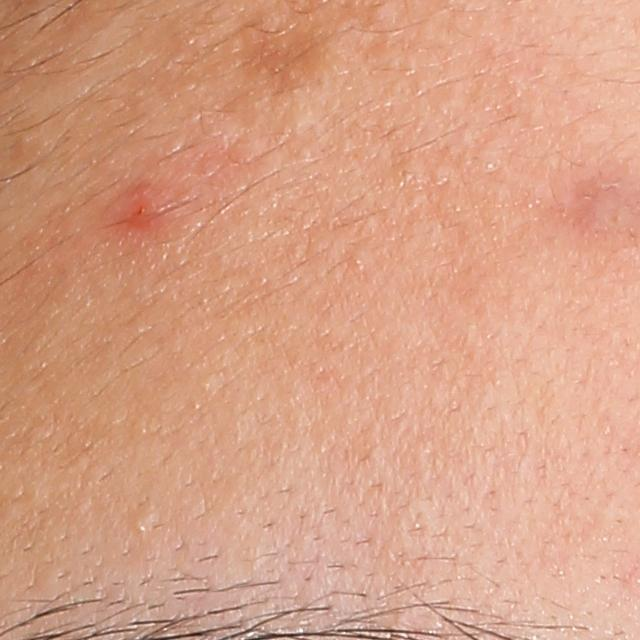comedo: (134, 513, 157, 535)
papule: (113, 183, 170, 234)
